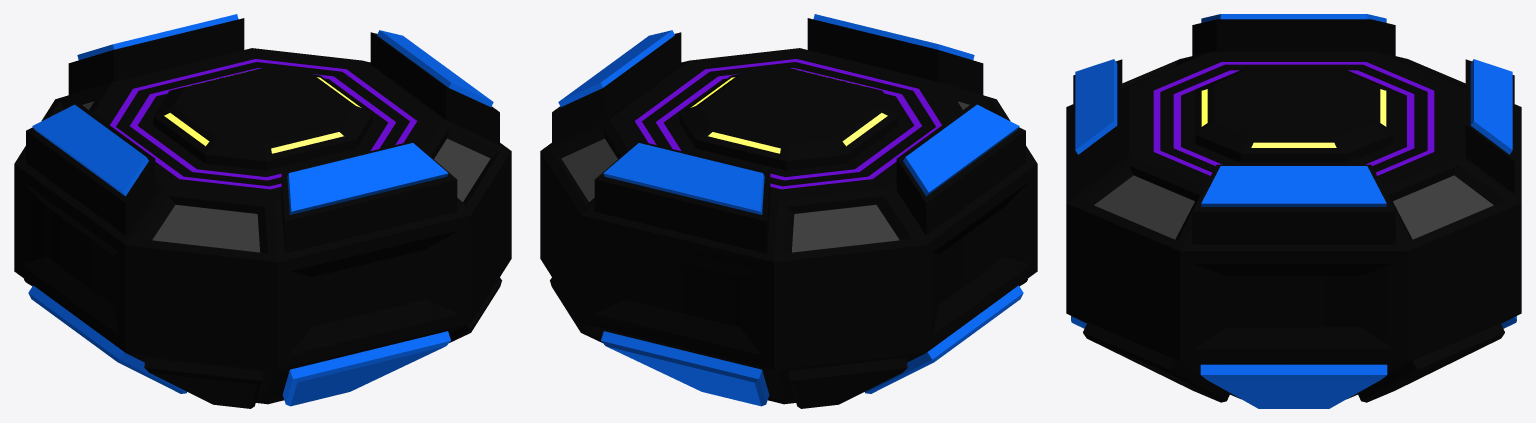
The model's file is 01_turretbase_regorSpire.glb.
The picture shows the model from 3 angles, left to right: view 1: azimuth 30°, elevation 25°; view 2: azimuth 150°, elevation 25°; view 3: azimuth 270°, elevation 25°; orthographic projection. The views are drawn at different scales.
Visible parts, largest first — view 1: 01_turretbase_regorSpire; view 2: 01_turretbase_regorSpire; view 3: 01_turretbase_regorSpire.
Boxes of the visible parts, box(x1,y1,x2,y2) form: 01_turretbase_regorSpire: box(14, 14, 511, 408); 01_turretbase_regorSpire: box(540, 14, 1037, 408); 01_turretbase_regorSpire: box(1066, 14, 1521, 408).
Size of the model in its own units: 1 by 0.6713 by 1.
